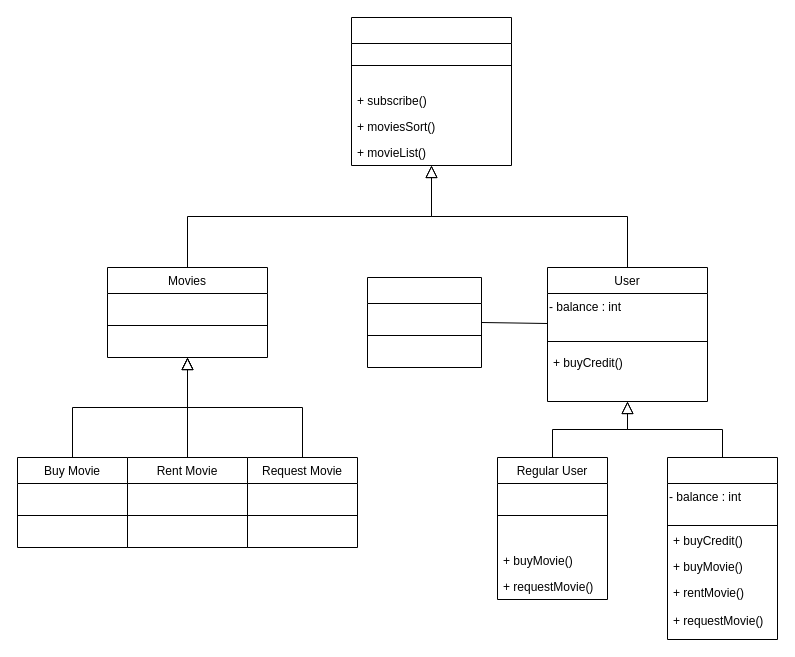
The diagram is 795 pixels wide and 657 high, and some of its shapes have lost their labels. The shapes that lost their labels are listed below. From the top down, each one's box as (x1, y1, x2, y2) in pixels, then its label:
(350, 16, 512, 166): Movie App
(366, 276, 482, 368): Buy Credit
(666, 456, 778, 640): Subscribe
